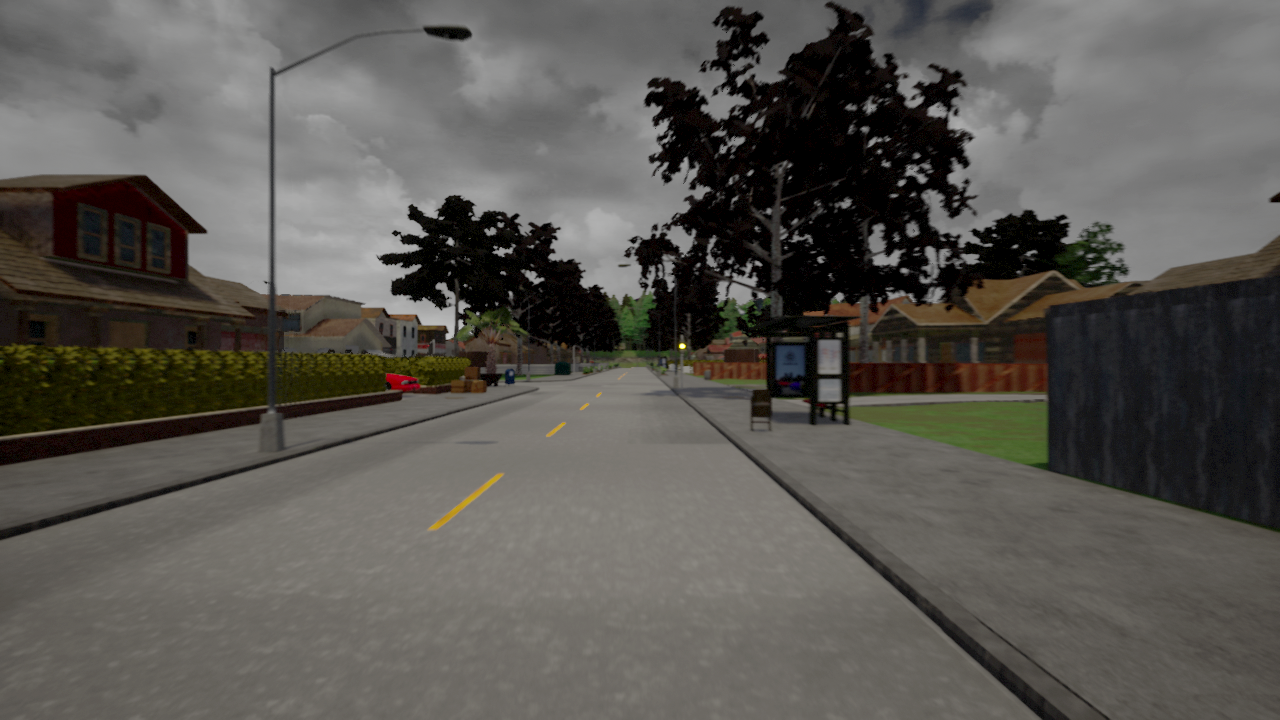yellow: (678, 337, 686, 353)
